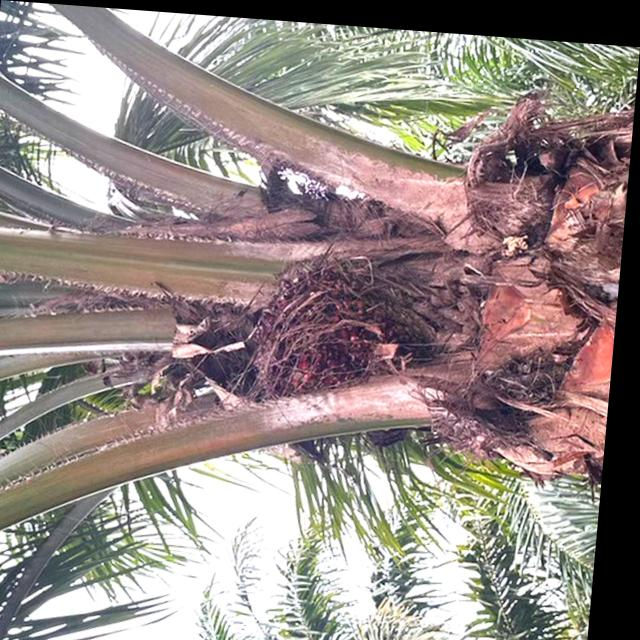ripe: (251, 256, 404, 397)
